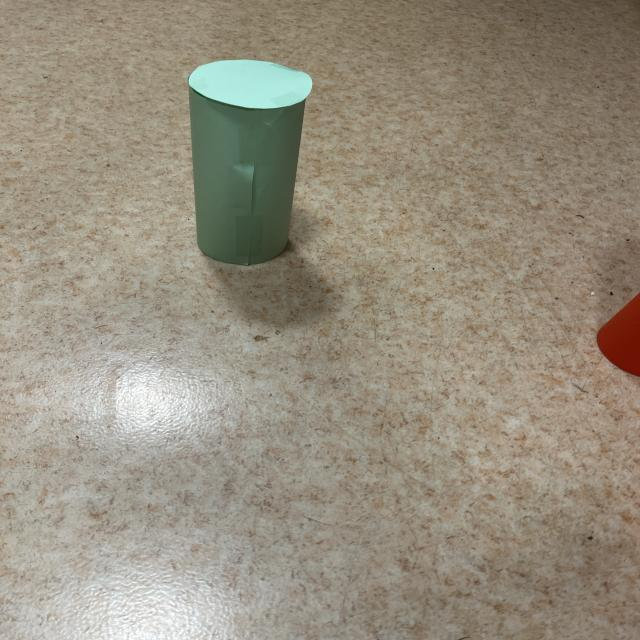meta: (188, 60, 312, 265)
